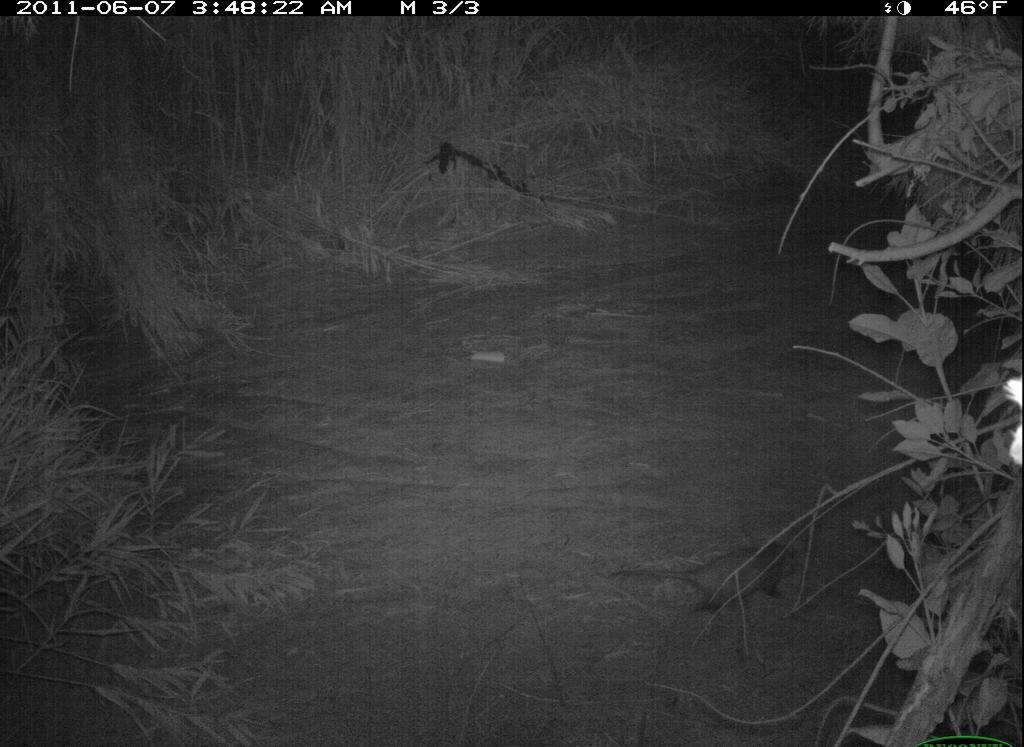opossum: (591, 527, 813, 632)
